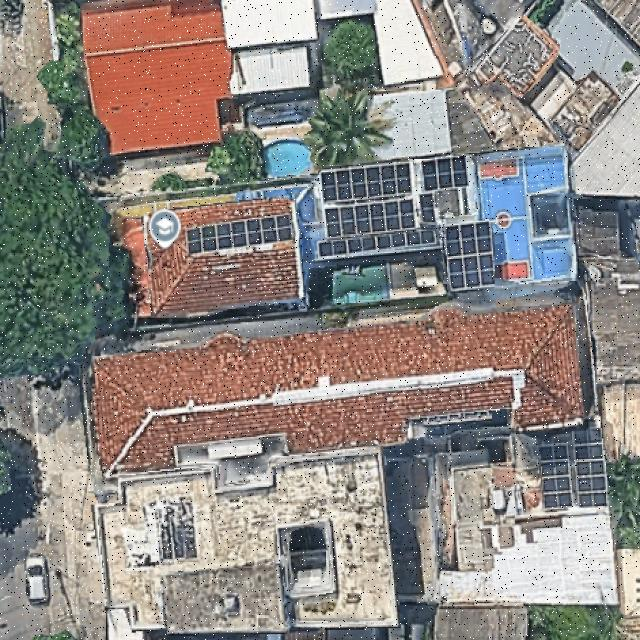painel: (540, 430, 603, 510), (188, 215, 293, 254), (321, 162, 411, 204), (325, 199, 418, 238), (445, 221, 494, 292), (317, 230, 437, 258), (422, 156, 467, 191), (420, 195, 434, 222)
